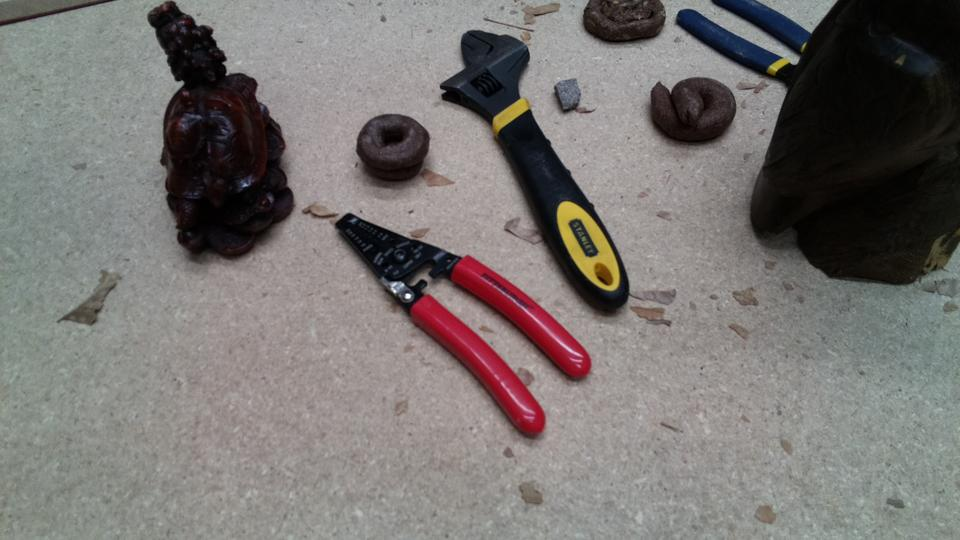poop: (647, 74, 739, 146), (354, 110, 432, 185), (581, 1, 668, 45)
